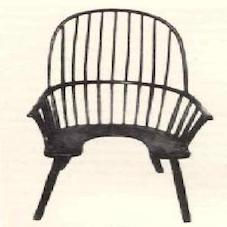chair: (16, 3, 214, 222)
